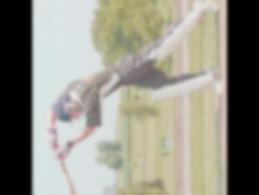batsman: (38, 0, 227, 195)
